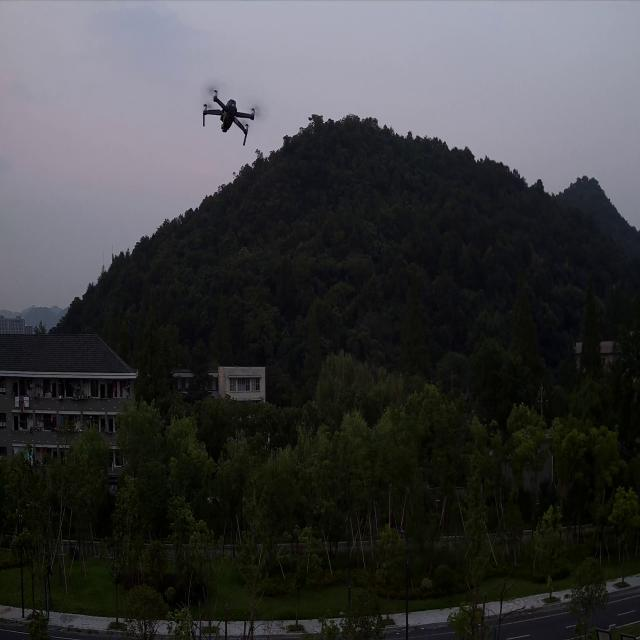UAV: (202, 88, 258, 146)
